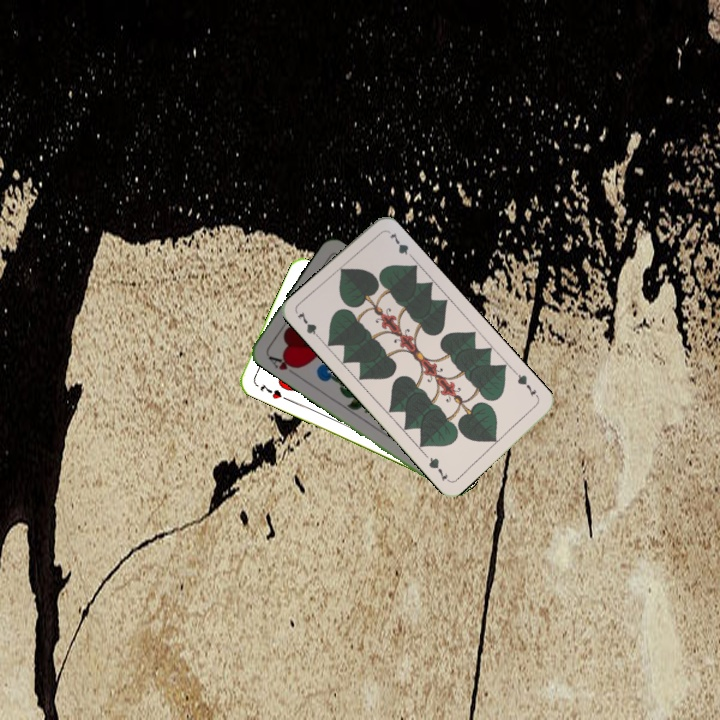G7: (293, 307, 324, 343), (511, 368, 541, 401)
H7: (256, 379, 290, 403)
HA: (263, 350, 302, 373)
